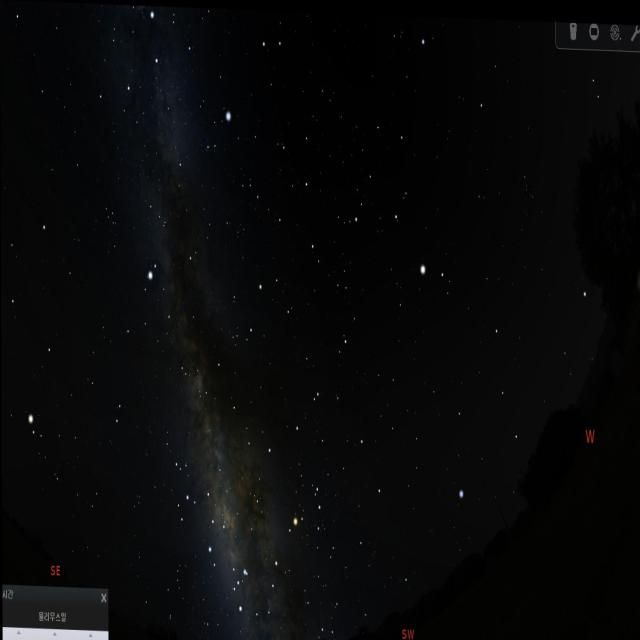aquila: (118, 223, 208, 395)
bootes: (370, 106, 456, 314)
cygnus: (123, 4, 200, 192)
lyra: (204, 102, 233, 163)
sagittarius: (170, 469, 241, 572)
scorpius: (231, 476, 334, 629)
